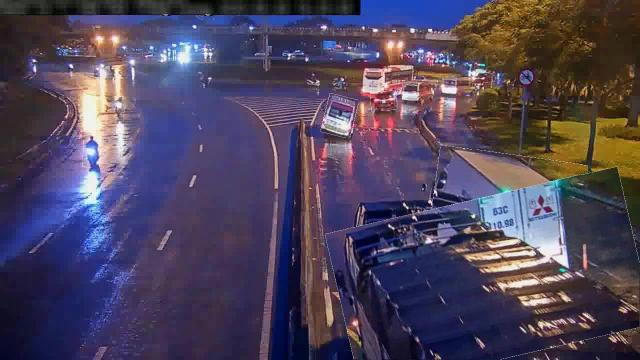Bike: (83, 135, 101, 167), (114, 96, 126, 118)
Bus: (323, 95, 357, 137)
Car: (370, 91, 398, 111)
Truck: (332, 182, 640, 360), (424, 150, 584, 314)
